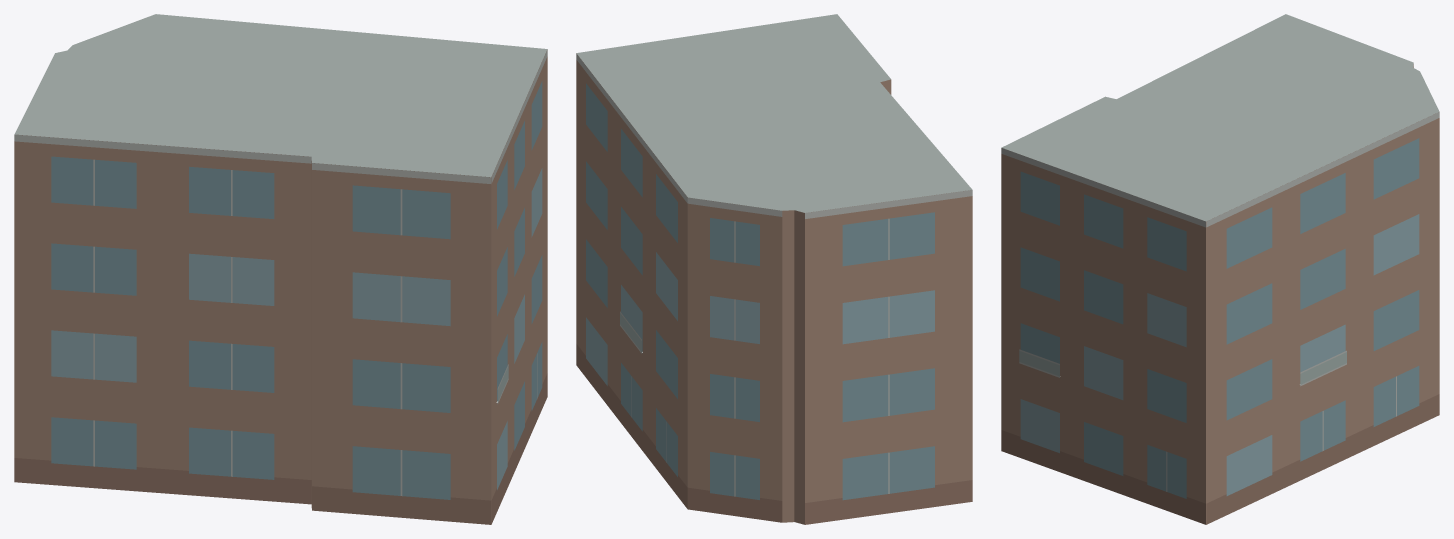
Rendered from survey-upis-32885609.glb.
3 views of the same model, side by side, from view 1: azimuth 30°, elevation 25°; view 2: azimuth 150°, elevation 25°; view 3: azimuth 270°, elevation 25° (orthographic). The views are drawn at different scales.
Parts seen in each view (by area): view 1: survey-upis-32885609.tmp; view 2: survey-upis-32885609.tmp; view 3: survey-upis-32885609.tmp.
Part boxes in pixels (box(x1,y1,x2,y2)): survey-upis-32885609.tmp: box(14, 14, 547, 524); survey-upis-32885609.tmp: box(576, 14, 972, 524); survey-upis-32885609.tmp: box(1001, 14, 1439, 524).
Bounding box in the file's own units: 17.91 × 12.2 × 15.98.
